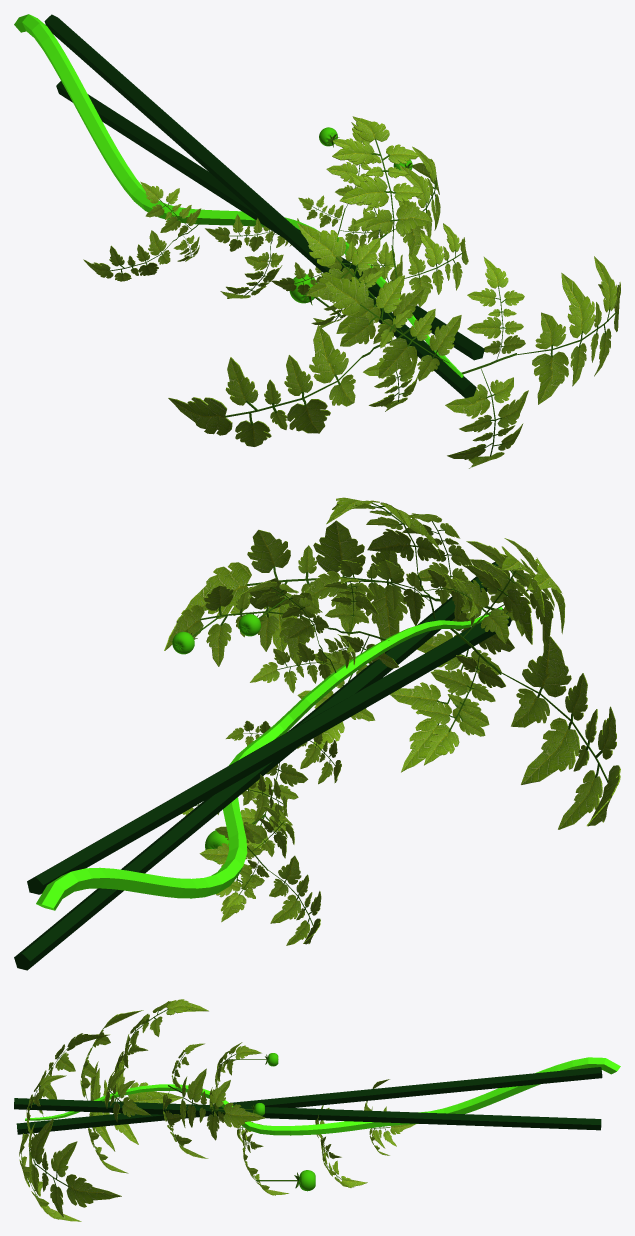
File: tomato_plant_2.obj
3 views of the same model, one above another, from view 1: azimuth 30°, elevation 25°; view 2: azimuth 150°, elevation 25°; view 3: azimuth 270°, elevation 25° (orthographic). The views are drawn at different scales.
Parts seen in each view (by area): view 1: Plane.001_Plane.011, Plane.002_Plane.012, stick.001_Cylinder.003, leaf_cluster.002_Plane.002, Cylinder.001_Cylinder.002, leaf_cluster_Plane.004, stick_Cylinder.001, Plane.007_Plane.005, leaf_cluster.001_Plane.001, Plane.003_Plane.013, leaf_cluster.003_Plane.003, Plane.005_Plane.016 (+2 smaller); view 2: Plane.001_Plane.011, stick.001_Cylinder.003, Cylinder.001_Cylinder.002, leaf_cluster_Plane.004, stick_Cylinder.001, Plane.003_Plane.013, Plane.002_Plane.012, Plane.007_Plane.005, Plane.006_Plane.017, leaf_cluster.001_Plane.001, Plane.004_Plane.014, leaf_cluster.002_Plane.002 (+2 smaller); view 3: stick_Cylinder.001, stick.001_Cylinder.003, Cylinder.001_Cylinder.002, Plane.003_Plane.013, leaf_cluster_Plane.004, Plane.001_Plane.011, Plane.002_Plane.012, leaf_cluster.002_Plane.002, Plane.006_Plane.017, leaf_cluster.001_Plane.001, Plane.005_Plane.016, Plane.007_Plane.005 (+3 smaller).
Boxes of the visible parts, x1,y1,x2,y2 form: Plane.001_Plane.011: [168, 223, 424, 446]; Plane.002_Plane.012: [318, 116, 468, 306]; stick.001_Cylinder.003: [44, 14, 476, 398]; leaf_cluster.002_Plane.002: [323, 276, 461, 381]; Cylinder.001_Cylinder.002: [14, 14, 463, 377]; leaf_cluster_Plane.004: [516, 256, 620, 404]; stick_Cylinder.001: [56, 81, 484, 360]; Plane.007_Plane.005: [83, 181, 201, 281]; leaf_cluster.001_Plane.001: [445, 368, 528, 468]; Plane.003_Plane.013: [346, 146, 440, 322]; leaf_cluster.003_Plane.003: [467, 256, 525, 360]; Plane.005_Plane.016: [205, 214, 299, 298]; Plane.001_Plane.011: [417, 541, 620, 829]; stick.001_Cylinder.003: [27, 609, 511, 894]; Cylinder.001_Cylinder.002: [36, 607, 502, 910]; leaf_cluster_Plane.004: [181, 520, 421, 651]; stick_Cylinder.001: [14, 562, 498, 970]; Plane.003_Plane.013: [164, 576, 399, 751]; Plane.002_Plane.012: [305, 497, 478, 625]; Plane.007_Plane.005: [226, 806, 321, 945]; Plane.006_Plane.017: [240, 581, 355, 693]; leaf_cluster.001_Plane.001: [390, 612, 514, 772]; Plane.004_Plane.014: [226, 720, 341, 849]; leaf_cluster.002_Plane.002: [470, 538, 565, 643]; stick_Cylinder.001: [14, 1098, 601, 1130]; stick.001_Cylinder.003: [16, 1067, 602, 1134]; Cylinder.001_Cylinder.002: [25, 1057, 620, 1135]; Plane.003_Plane.013: [163, 1043, 265, 1158]; leaf_cluster_Plane.004: [28, 1118, 121, 1216]; Plane.001_Plane.011: [80, 1010, 182, 1173]; Plane.002_Plane.012: [104, 999, 208, 1122]; leaf_cluster.002_Plane.002: [39, 1033, 110, 1116]; Plane.006_Plane.017: [209, 1042, 261, 1122]; leaf_cluster.001_Plane.001: [19, 1128, 81, 1221]; Plane.005_Plane.016: [315, 1105, 367, 1187]; Plane.007_Plane.005: [364, 1079, 415, 1155].
Bounding box in the file's own units: 0.6721 × 0.4783 × 1.27.
5 materials, 1 textured.
